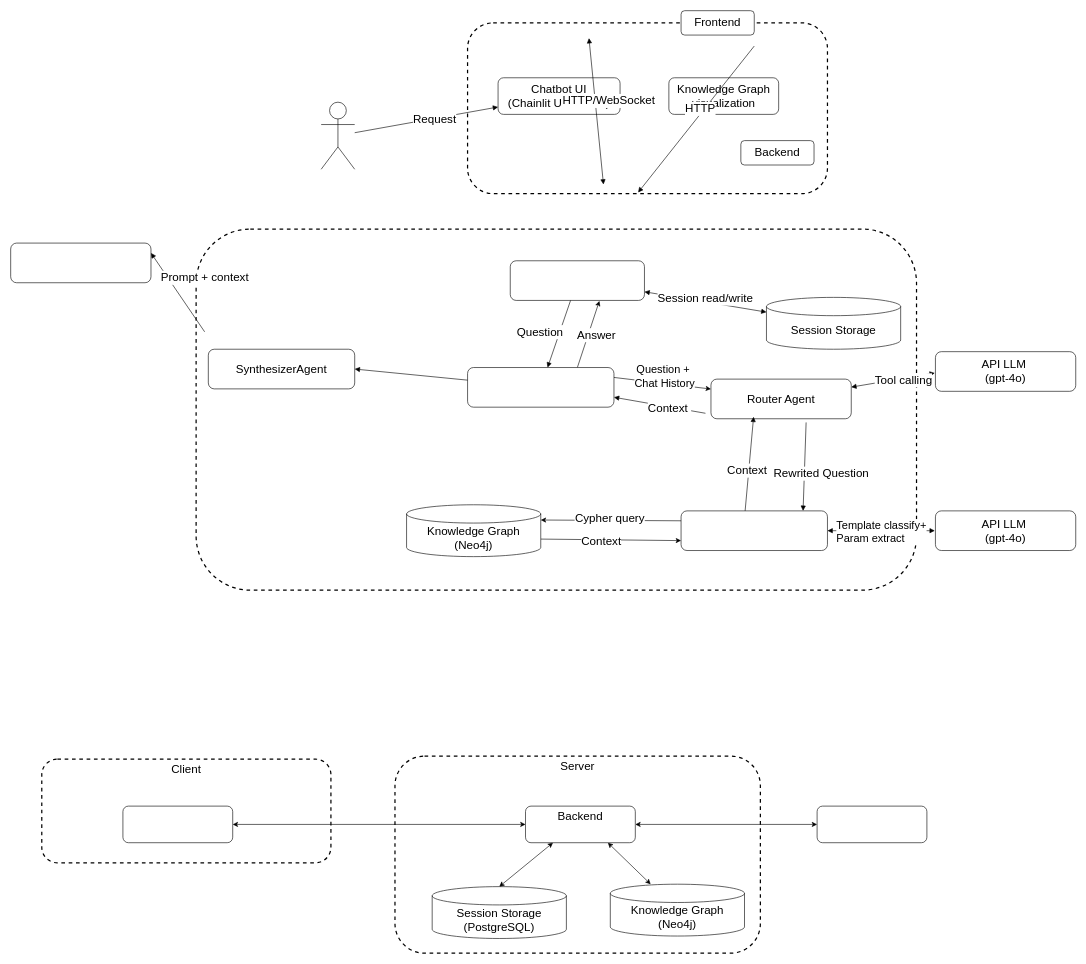
The diagram is 1086 pixels wide and 964 high, and some of its shapes have lost their labels. Here are the shapes that lost their labels. From the top down, the centre of each, then its label:
At (x=338, y=135): "User (Actor)".
At (x=80, y=262): "API LLM (gpt-4.1)".
At (x=577, y=280): "Chainlit Backend".
At (x=540, y=387): "ConversationOrchestrator".
At (x=753, y=530): "Retriever Agents".
At (x=177, y=824): "Frontend (Chainlit UI)".
At (x=871, y=824): "API LLM (gpt-4o, gpt-4.1)".
